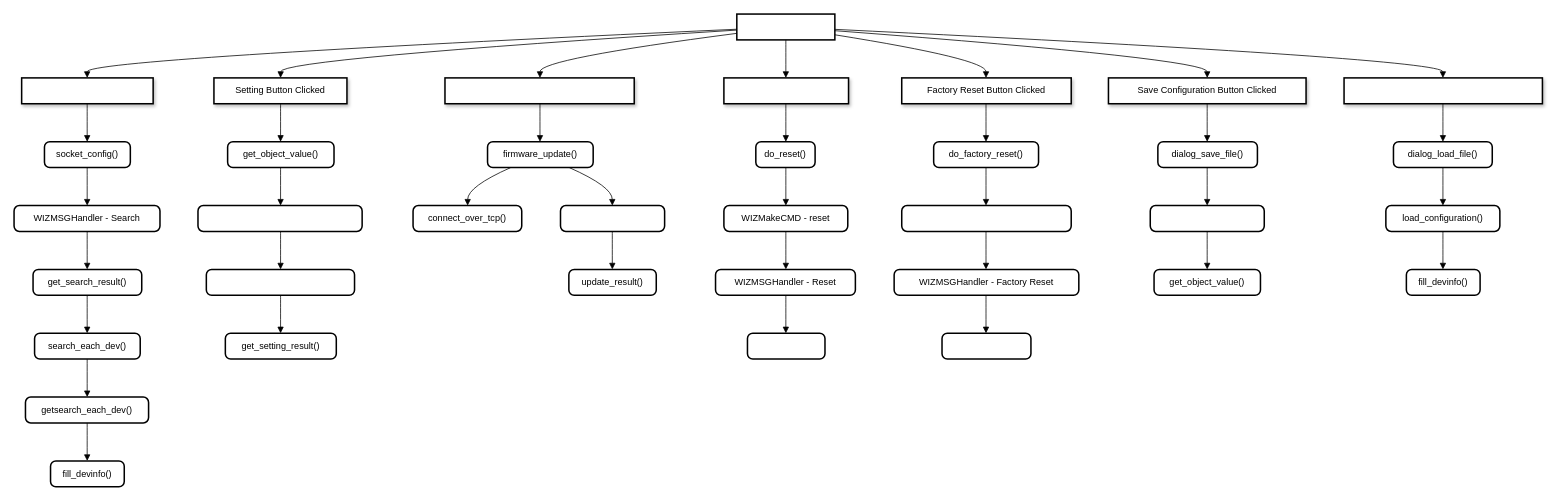
Some shapes in this 1560 by 500 pixel diagram are drawn without their labels. The centre of each missing label's shape, as x and y in pixels:
factory_result(): (986,345)
Firmware Update Button Clicked: (540,91)
FWUploadThread: (612,218)
Load Configuration Button Clicked: (1443,91)
Reset Button Clicked: (786,91)
reset_result(): (785,345)
save_configuration(): (1207,218)
Search Button Clicked: (87,91)
WIZMakeCMD - factory_reset: (986,218)
WIZMakeCMD - setcommand: (280,218)
WIZMSGHandler - Setting: (280,282)
WIZWindow GUI: (785,26)
